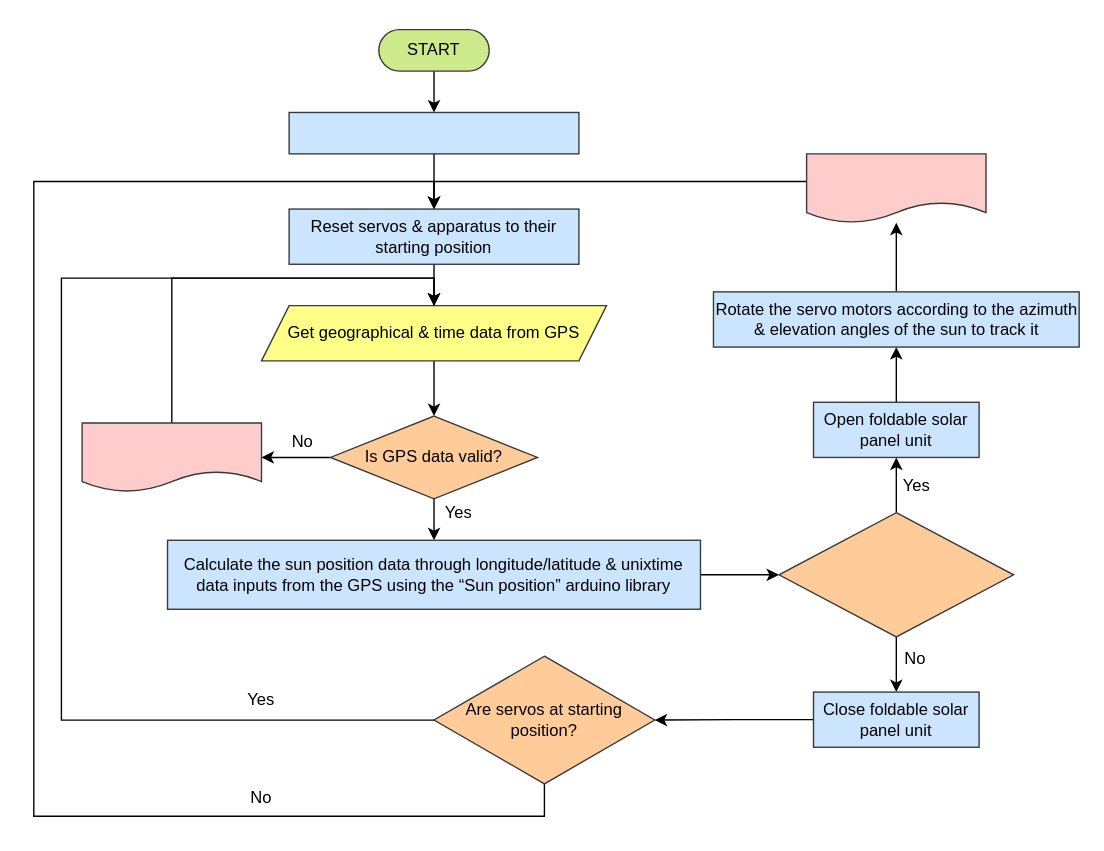
Image size: 1104x851. Some labels were removed from this diagram. The shapes that lost their labels are listed below. From the top down, each one's centre as x and y in pixels, then its label:
At [433,132]: "Wait for GPS to get a signal lock".
At [895,187]: "Tabulate relevant data into spreadsheet".
At [171,457]: "Tabulate invalid entry into spreadsheet".
At [896,574]: "00:00 <= current time <= 11:00 (UTC)".
